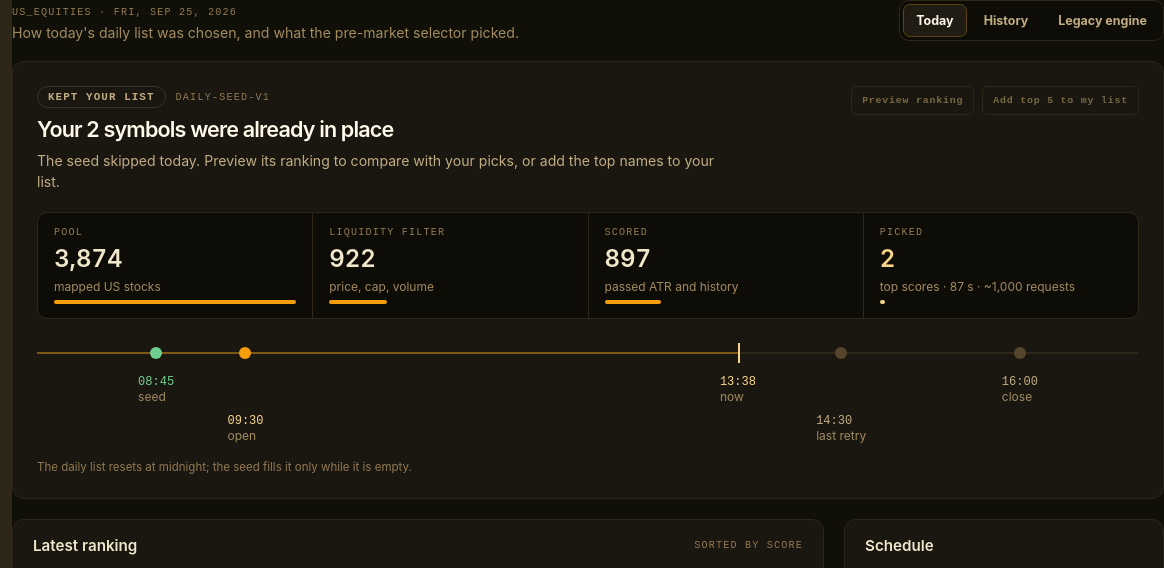
Scenario: DiscoveryView › offers adding the top picks when the operator list was kept
Expected: the heading "Your 2 symbols were already in place" is shown, x1=37 y1=116 x2=393 y2=142
Click the button "Add top 5 to my list" at point(1061, 100), box x1=982 y1=86 x2=1139 y2=115
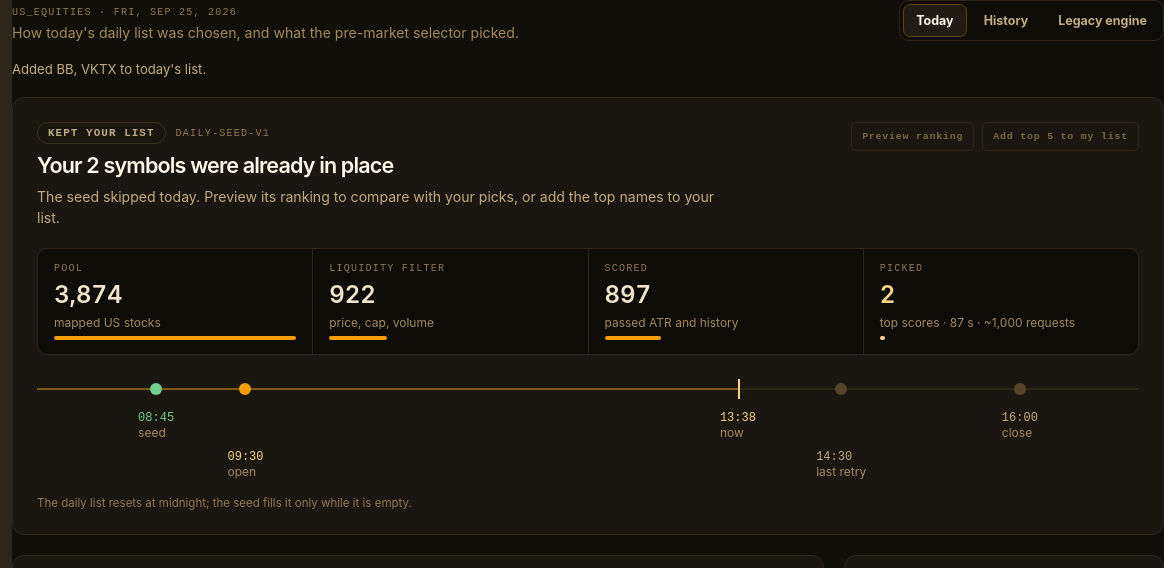
Expected: the text "Added BB, VKTX to today's list." is shown, x1=12 y1=61 x2=206 y2=77
